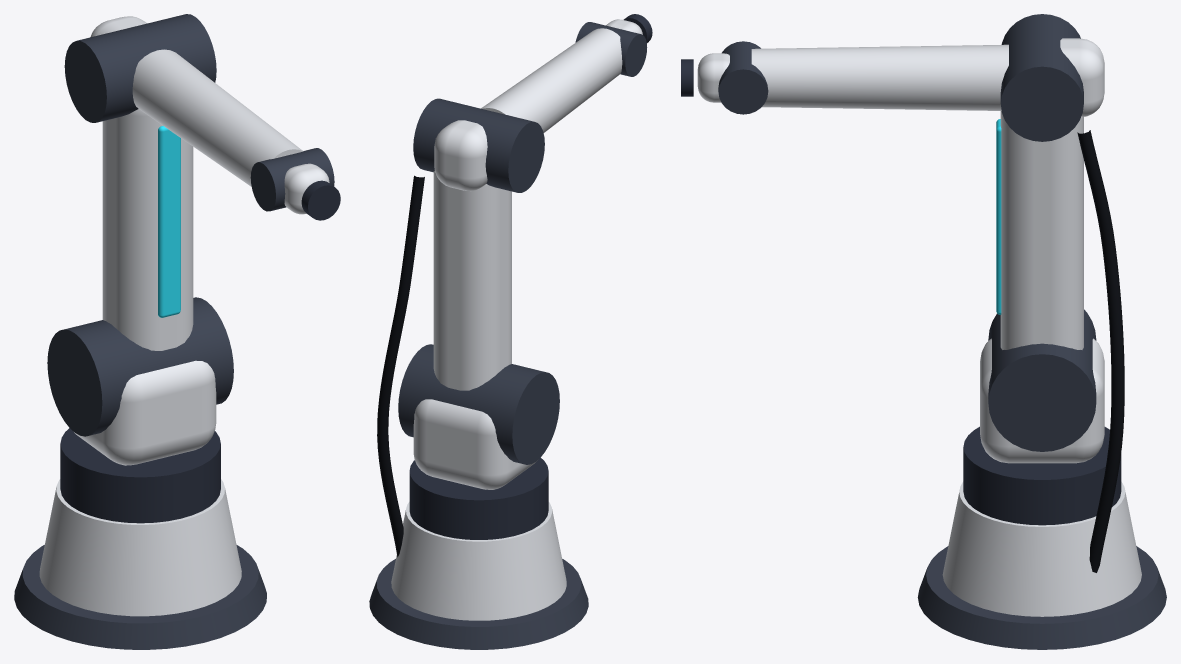
The model's file is robotArm.glb.
3 views of the same model, side by side, from view 1: azimuth 30°, elevation 25°; view 2: azimuth 150°, elevation 25°; view 3: azimuth 270°, elevation 25° (orthographic). The views are drawn at different scales.
Visible parts, largest first — view 1: base, upperArm, j2, j1, plate, forearm, turret, j3, stripe, j5, wrist, flange (+1 smaller); view 2: upperArm, base, j2, j1, plate, turret, forearm, j3, cable, elbowHousing, j5; view 3: upperArm, base, forearm, j2, plate, j1, j3, cable, turret, j5, elbowHousing, wrist (+1 smaller).
Boxes of the visible parts, <box> form: base: <box>39,479,241,616</box>; upperArm: <box>102,109,193,350</box>; j2: <box>47,297,233,436</box>; j1: <box>60,428,220,523</box>; plate: <box>14,545,266,649</box>; forearm: <box>132,49,303,186</box>; turret: <box>74,360,216,465</box>; j3: <box>64,14,216,122</box>; stripe: <box>158,126,180,317</box>; j5: <box>250,148,334,211</box>; wrist: <box>284,163,329,214</box>; flange: <box>301,180,340,220</box>; upperArm: <box>433,170,511,390</box>; base: <box>391,501,566,620</box>; j2: <box>398,344,559,464</box>; j1: <box>409,457,548,539</box>; plate: <box>369,559,588,649</box>; turret: <box>413,399,537,489</box>; forearm: <box>481,28,622,132</box>; j3: <box>413,98,544,192</box>; cable: <box>377,175,424,557</box>; elbowHousing: <box>434,120,487,191</box>; j5: <box>575,22,647,76</box>; upperArm: <box>1000,111,1083,349</box>; base: <box>942,481,1141,616</box>; forearm: <box>751,44,1008,110</box>; j2: <box>988,309,1096,451</box>; plate: <box>917,546,1166,649</box>; j1: <box>963,426,1121,525</box>; j3: <box>1000,14,1083,141</box>; cable: <box>1077,130,1124,572</box>; turret: <box>980,338,1104,463</box>; j5: <box>718,41,768,114</box>; elbowHousing: <box>1060,38,1104,116</box>; wrist: <box>697,53,729,102</box>.
Size of the model in its own units: 0.6 by 1.48 by 1.17.
